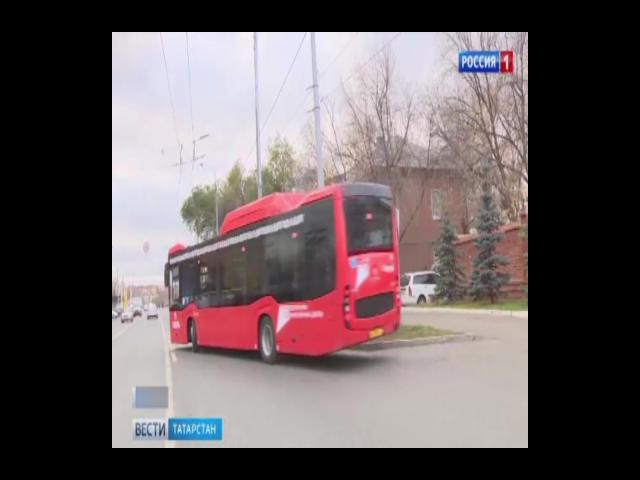bus: (162, 182, 403, 366)
car: (397, 270, 453, 311), (118, 308, 135, 323), (145, 305, 158, 319)
